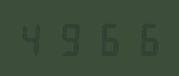four: (18, 20, 52, 56)
nine: (53, 20, 87, 56)
six: (88, 20, 122, 56), (123, 20, 157, 56)
